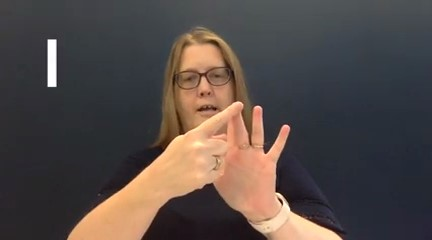I: (156, 96, 296, 208)
